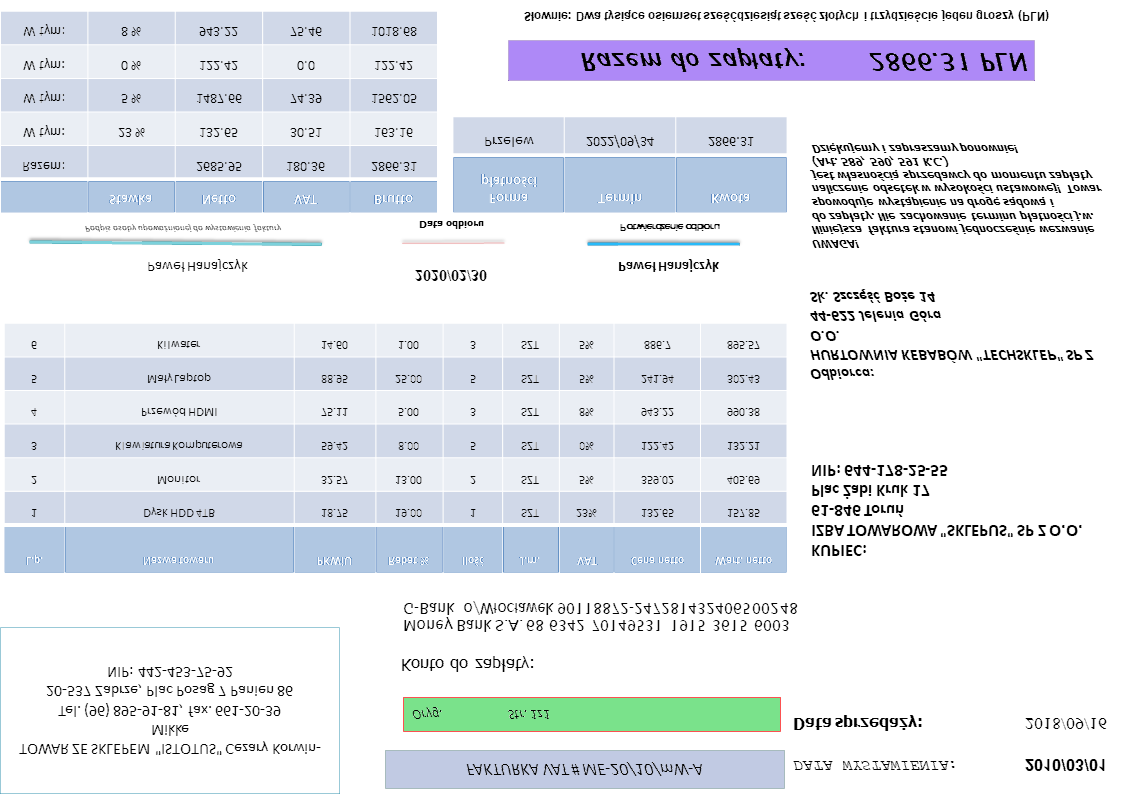Table: (2, 322, 788, 576), (1, 10, 439, 214), (452, 116, 788, 214)
TextBox: (810, 140, 1107, 253), (17, 664, 322, 757), (807, 287, 1094, 385), (808, 461, 1084, 562), (577, 44, 1031, 78), (400, 600, 801, 634), (521, 5, 1052, 26), (464, 759, 707, 779), (792, 755, 958, 776), (81, 221, 282, 236), (398, 653, 535, 675), (791, 712, 925, 734), (410, 705, 552, 722), (615, 255, 721, 276), (144, 258, 250, 278), (1023, 713, 1111, 733), (1021, 755, 1106, 775), (616, 220, 723, 235), (413, 265, 488, 285), (416, 218, 486, 232)
